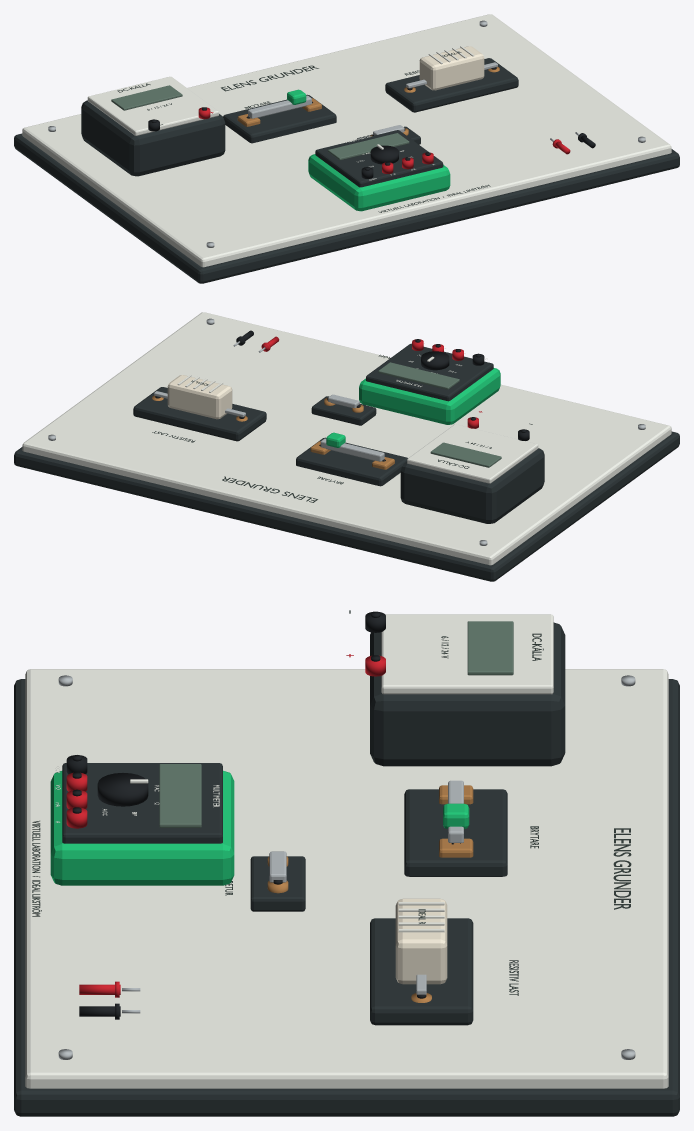
Rendered from module-one-bench.glb.
The picture shows the model from 3 angles, top to bottom: view 1: azimuth 30°, elevation 25°; view 2: azimuth 150°, elevation 25°; view 3: azimuth 270°, elevation 25°; orthographic projection. The views are drawn at different scales.
Visible parts, largest first — view 1: Static_Ivory, Static_Graphite, Static_Green, Static_Ceramic, Static_LCD, Static_Ink, Switch blade, Static_Red, Static_Copper, Rotary dial; view 2: Static_Ivory, Static_Graphite, Static_Green, Static_Ceramic, Static_LCD, Static_Ink, Switch blade, Static_Copper, Rotary dial, Static_Red, Static_Black; view 3: Static_Ivory, Static_Graphite, Static_Green, Static_LCD, Static_Ceramic, Static_Ink, Rotary dial, Static_Red, Static_Copper, Static_Black, Static_Metal.
Boxes of the visible parts, x1,y1,x2,y2 form: Static_Ivory: [22, 14, 671, 267]; Static_Graphite: [14, 58, 679, 283]; Static_Green: [308, 154, 450, 211]; Static_Ceramic: [419, 46, 484, 90]; Static_LCD: [111, 85, 409, 160]; Static_Ink: [117, 51, 490, 212]; Switch blade: [248, 95, 311, 118]; Static_Red: [198, 107, 433, 173]; Static_Copper: [237, 67, 499, 136]; Rotary dial: [370, 145, 398, 164]; Static_Ivory: [22, 312, 671, 565]; Static_Graphite: [14, 343, 679, 581]; Static_Green: [359, 368, 500, 424]; Static_Ceramic: [167, 375, 232, 419]; Static_LCD: [378, 362, 501, 467]; Static_Ink: [152, 354, 532, 502]; Switch blade: [320, 438, 384, 461]; Static_Copper: [152, 395, 394, 469]; Rotary dial: [421, 351, 449, 370]; Static_Red: [412, 339, 482, 428]; Static_Black: [155, 339, 529, 461]; Static_Ivory: [25, 614, 668, 1088]; Static_Graphite: [14, 622, 679, 1116]; Static_Green: [50, 770, 234, 885]; Static_LCD: [159, 621, 513, 827]; Static_Ceramic: [395, 898, 447, 984]; Static_Ink: [32, 610, 631, 995]; Rotary dial: [97, 773, 148, 806]; Static_Red: [66, 654, 385, 828]; Static_Copper: [267, 785, 473, 1002]; Static_Black: [66, 611, 460, 998]; Static_Metal: [58, 675, 635, 1059].
Size of the model in its own units: 0.86 by 0.1336 by 0.58.
